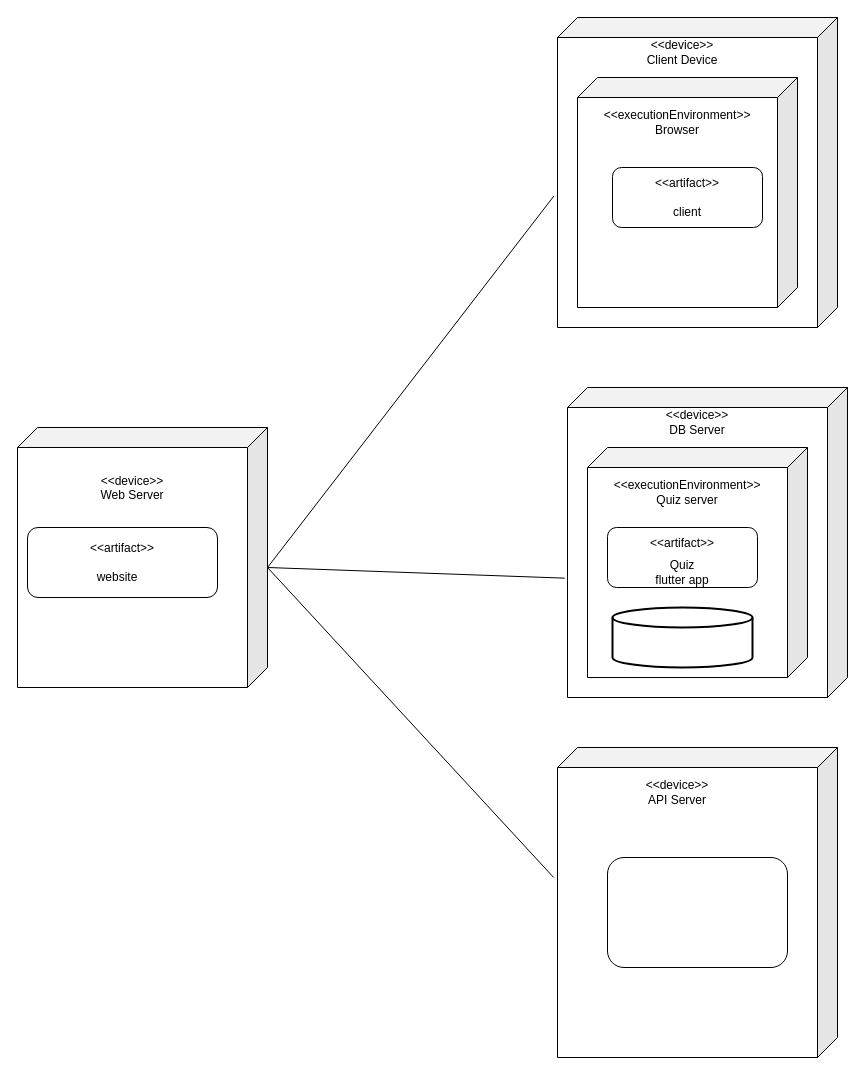
This 865x1075 diagram has some shape labels left out. The box of each missing label's shape, as (x1, y1, x2, y2) in pixels:
<<artifact>> ChatGPT Server: (606, 856, 788, 968)
<<artifact>> Firebase database: (611, 606, 753, 668)
